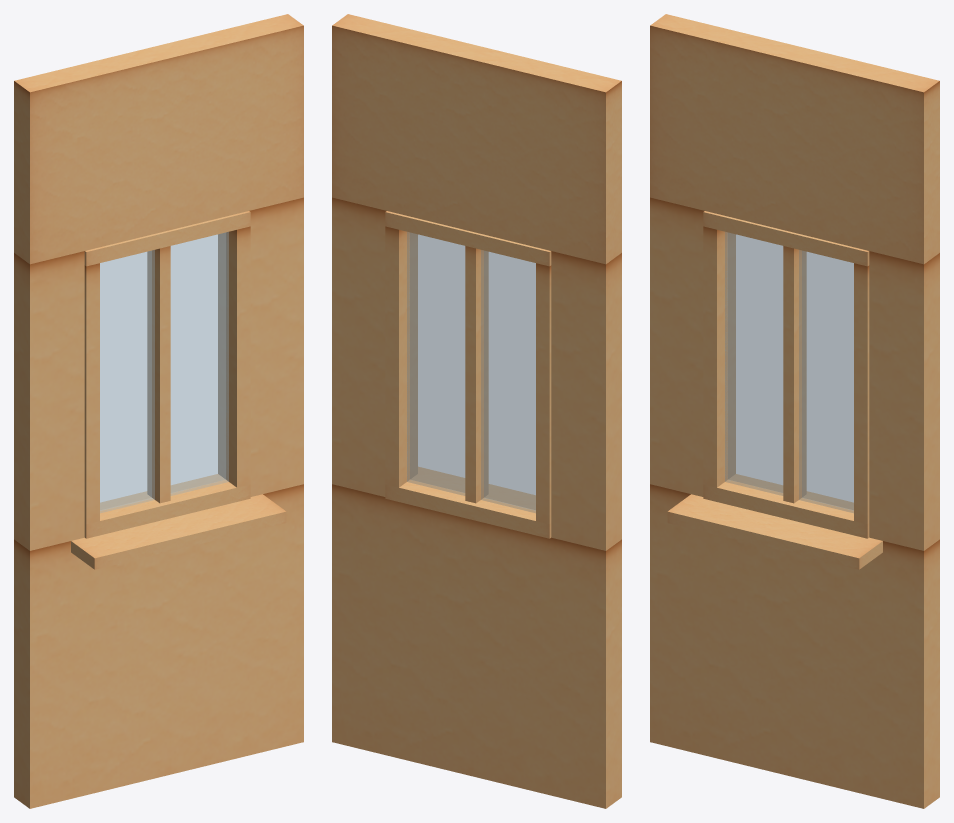
Rendered from Wall_Window.fbx.
3 views of the same model, side by side, from view 1: azimuth 30°, elevation 25°; view 2: azimuth 150°, elevation 25°; view 3: azimuth 330°, elevation 25° (orthographic).
Visible parts, largest first — view 1: Wall_Window; view 2: Wall_Window; view 3: Wall_Window.
Boxes of the visible parts, x1,y1,x2,y2 form: Wall_Window: (14,14,303,808); Wall_Window: (332,14,621,808); Wall_Window: (650,14,939,808).
Bounding box in the file's own units: 1 × 2.5 × 0.26.
